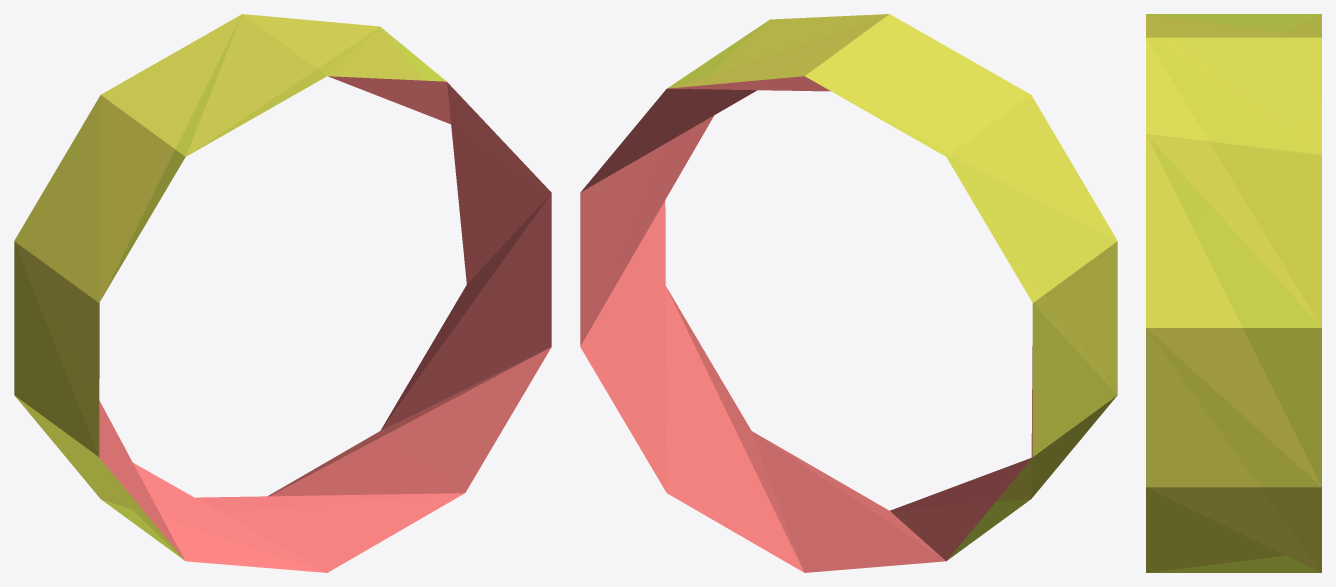
The model's file is DecagonalIrisToroid2.obj.
3 views of the same model, side by side, from view 1: azimuth 30°, elevation 25°; view 2: azimuth 150°, elevation 25°; view 3: azimuth 270°, elevation 25° (orthographic). The views are drawn at different scales.
Size of the model in its own units: 2.46 by 2.58 by 0.8.
